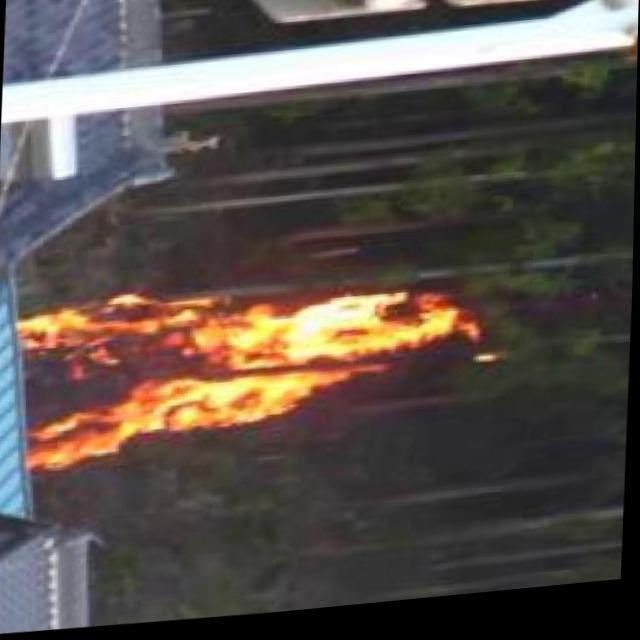Fire: (5, 265, 465, 474)
